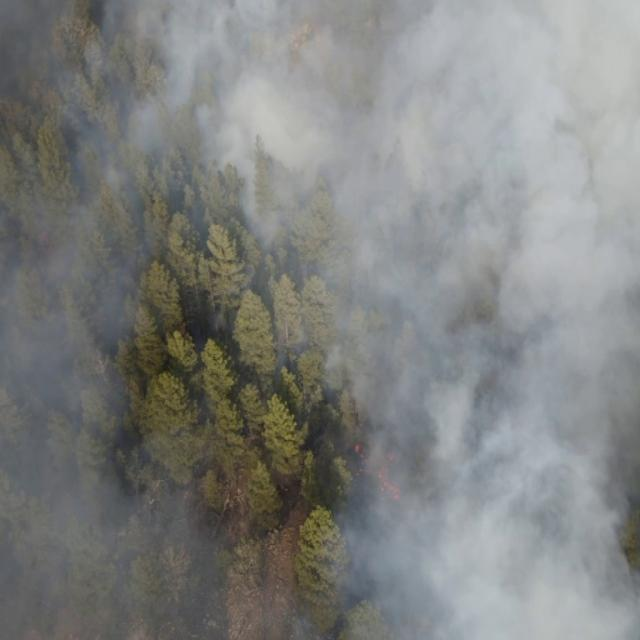fire: (352, 441, 405, 503)
smoke: (0, 0, 640, 640)
